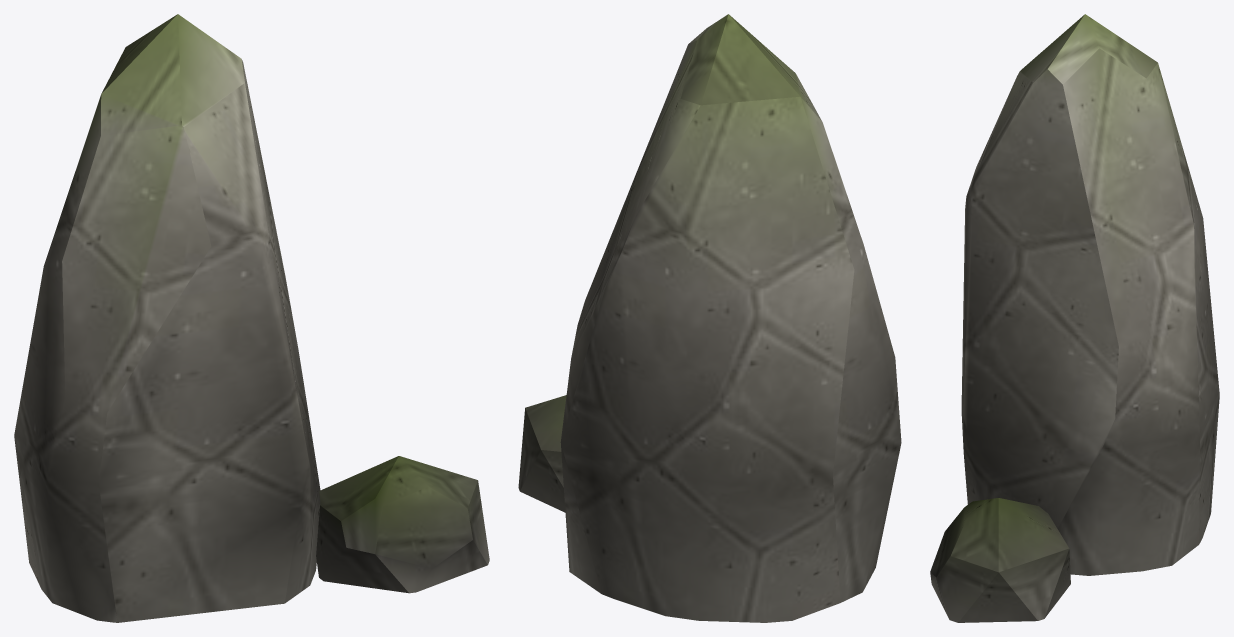
The model's file is rock_field_c.glb.
3 renders of one model, left to right at view 1: azimuth 30°, elevation 25°; view 2: azimuth 150°, elevation 25°; view 3: azimuth 270°, elevation 25°, orthographic. The views are drawn at different scales.
Parts seen in each view (by area): view 1: rock_field_c; view 2: rock_field_c; view 3: rock_field_c.
Part boxes in pixels (x1,y1,x2,y2): rock_field_c: (14, 14, 489, 622); rock_field_c: (518, 14, 901, 622); rock_field_c: (930, 14, 1219, 622).
Size of the model in its own units: 0.9808 by 1.28 by 0.6705.
1 material, 1 textured.
